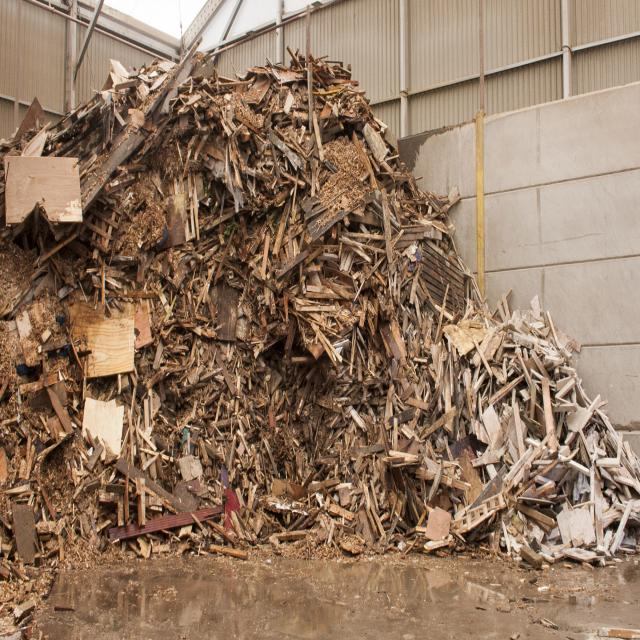green waste: (0, 40, 635, 600)
